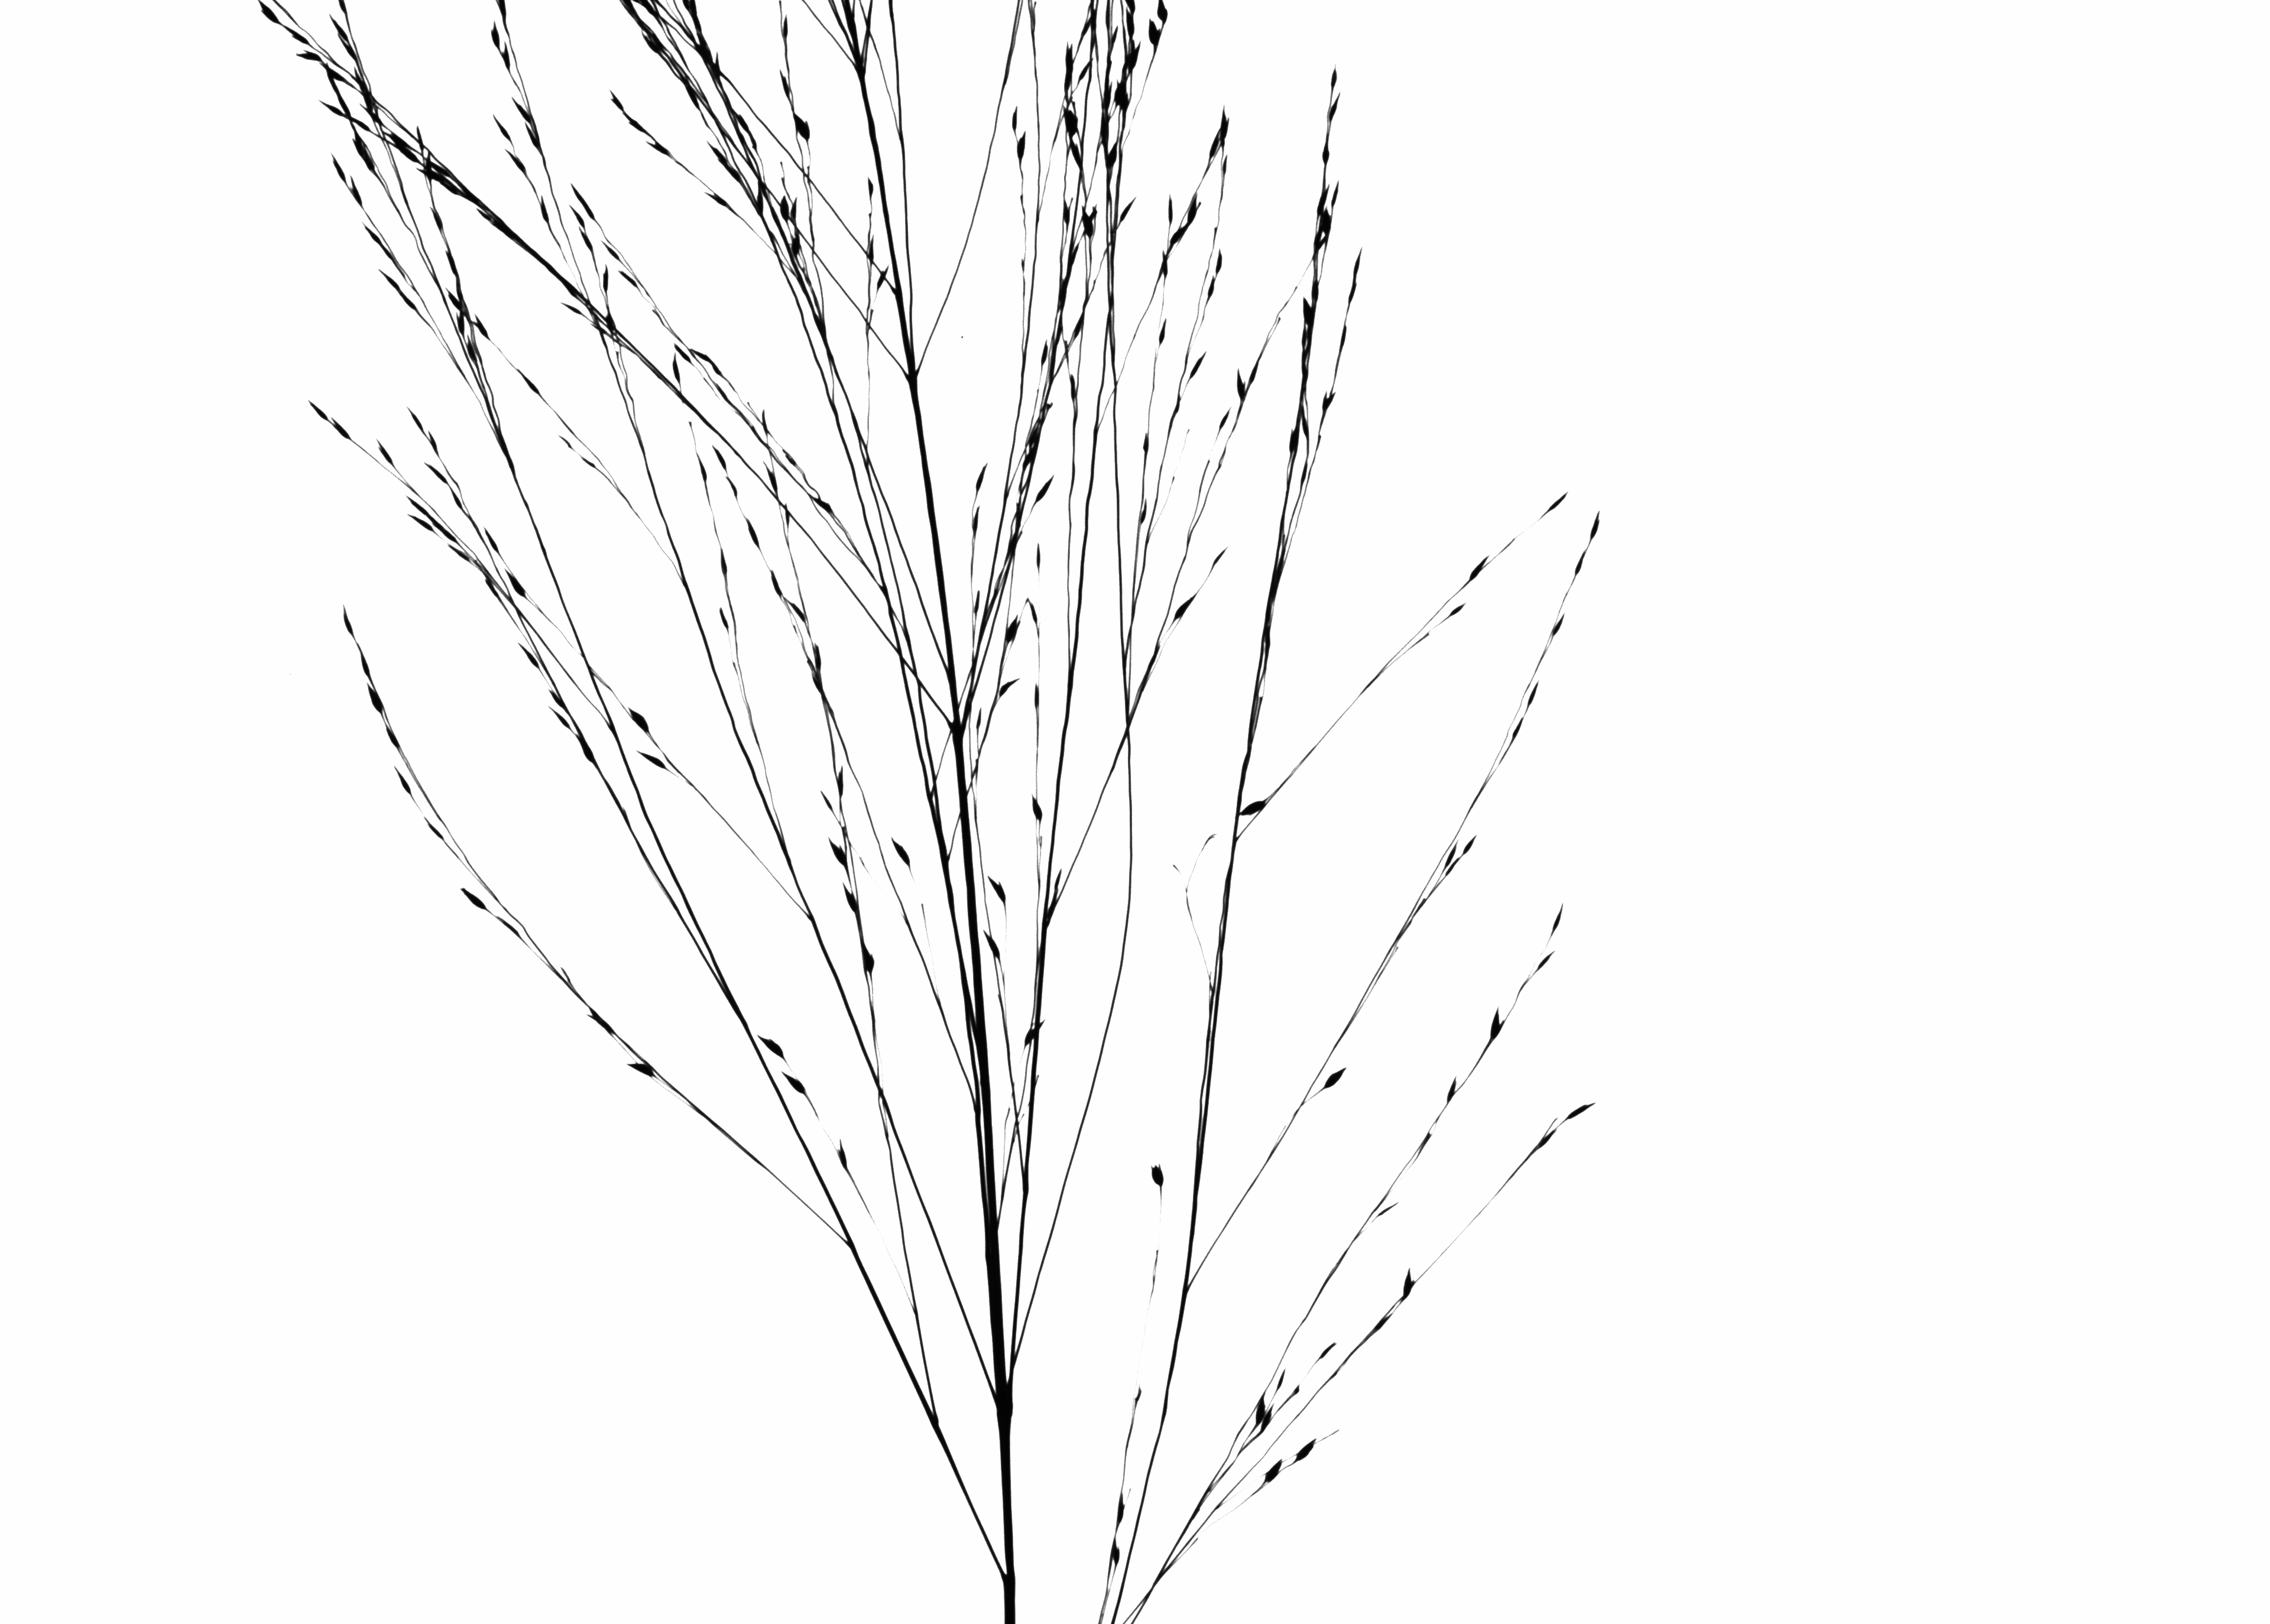seed: (348, 130, 383, 179), (1234, 787, 1278, 824), (570, 178, 603, 225), (452, 879, 492, 916), (751, 1030, 793, 1065), (621, 701, 661, 736), (811, 784, 844, 826), (617, 1056, 665, 1084), (1463, 545, 1493, 589), (438, 285, 473, 322), (768, 67, 804, 104), (1143, 1155, 1171, 1200), (1168, 587, 1199, 627), (1115, 188, 1141, 236), (1537, 490, 1572, 526), (821, 833, 855, 870), (851, 939, 883, 977), (835, 879, 867, 917), (1020, 1016, 1051, 1055), (886, 830, 916, 870), (1053, 100, 1088, 134), (584, 1009, 617, 1044), (1255, 1455, 1287, 1492), (389, 763, 418, 801), (508, 90, 542, 123), (1317, 1063, 1350, 1097), (322, 14, 357, 46), (761, 566, 788, 608), (1106, 1487, 1132, 1529), (756, 457, 784, 496), (983, 868, 1011, 907), (1296, 292, 1321, 336), (1030, 473, 1057, 513), (489, 111, 520, 144), (301, 392, 332, 425), (1292, 1432, 1322, 1468), (663, 350, 688, 392), (1229, 362, 1254, 404), (1563, 1093, 1600, 1121), (1396, 1264, 1421, 1306), (324, 151, 350, 190), (965, 457, 992, 496), (403, 513, 441, 540), (1000, 610, 1023, 654), (499, 149, 531, 181), (1528, 1125, 1560, 1156), (559, 297, 593, 327), (424, 200, 454, 234), (360, 684, 390, 717), (738, 513, 767, 548), (1141, 16, 1169, 51), (501, 566, 529, 601), (331, 599, 359, 634), (1118, 35, 1145, 72), (1481, 1005, 1507, 1042), (1312, 179, 1333, 225), (712, 599, 737, 638), (315, 93, 346, 123), (543, 701, 573, 733), (512, 638, 542, 670), (348, 649, 378, 680), (1532, 947, 1561, 979), (779, 1072, 812, 1100), (373, 269, 408, 295), (637, 747, 672, 773), (1368, 1199, 1403, 1225), (1189, 346, 1211, 387), (753, 406, 777, 443), (710, 545, 735, 582), (571, 731, 596, 768), (1023, 791, 1048, 828), (1523, 673, 1547, 710), (422, 460, 452, 490), (603, 83, 631, 114), (645, 137, 677, 165), (993, 677, 1025, 705), (981, 926, 1004, 965), (1102, 1540, 1129, 1573), (1349, 243, 1370, 283), (359, 221, 387, 251), (786, 112, 814, 142), (404, 492, 434, 520), (1442, 599, 1472, 627), (373, 434, 397, 468), (1210, 406, 1234, 439), (1544, 610, 1568, 643), (700, 192, 738, 213), (250, 5, 285, 28), (1547, 896, 1565, 942), (786, 598, 814, 626), (1166, 220, 1192, 250), (292, 47, 329, 69), (1011, 128, 1032, 165), (1326, 91, 1347, 128), (531, 193, 554, 227), (345, 169, 364, 207), (1102, 137, 1122, 176), (874, 257, 893, 295), (833, 1134, 853, 1172), (552, 429, 578, 457), (707, 441, 733, 469), (1187, 185, 1204, 227), (1204, 128, 1226, 163), (617, 264, 642, 294), (441, 248, 466, 278), (1076, 207, 1099, 239), (482, 526, 505, 557), (965, 585, 985, 622), (1282, 425, 1301, 462), (1030, 680, 1048, 721), (1588, 503, 1605, 543), (596, 258, 617, 292), (1438, 842, 1459, 875), (1440, 1072, 1461, 1106), (598, 237, 624, 264), (461, 334, 484, 364), (331, 417, 353, 446), (484, 26, 508, 53), (499, 40, 519, 74), (770, 188, 789, 221), (1315, 207, 1335, 241), (774, 14, 797, 42), (1208, 545, 1231, 573), (403, 404, 424, 434), (1261, 1401, 1278, 1436), (710, 49, 726, 88), (1055, 197, 1074, 228), (1034, 336, 1050, 374), (967, 504, 986, 536), (443, 545, 475, 564), (411, 125, 429, 158), (862, 170, 879, 204), (791, 190, 807, 227), (1250, 1392, 1266, 1429), (860, 230, 876, 265), (1162, 192, 1178, 227), (1329, 179, 1347, 211), (1271, 1366, 1289, 1397), (1157, 246, 1171, 285), (1324, 62, 1343, 90), (1006, 100, 1022, 134), (424, 425, 441, 455), (1136, 429, 1153, 459), (278, 33, 315, 47), (1032, 538, 1046, 575), (1315, 1339, 1336, 1364), (1113, 84, 1131, 112), (1078, 54, 1095, 83), (1203, 274, 1219, 304), (1155, 315, 1169, 348), (972, 705, 986, 736), (1136, 497, 1150, 529), (1219, 105, 1231, 139), (1215, 243, 1227, 276), (1465, 831, 1481, 856), (837, 763, 846, 798)
